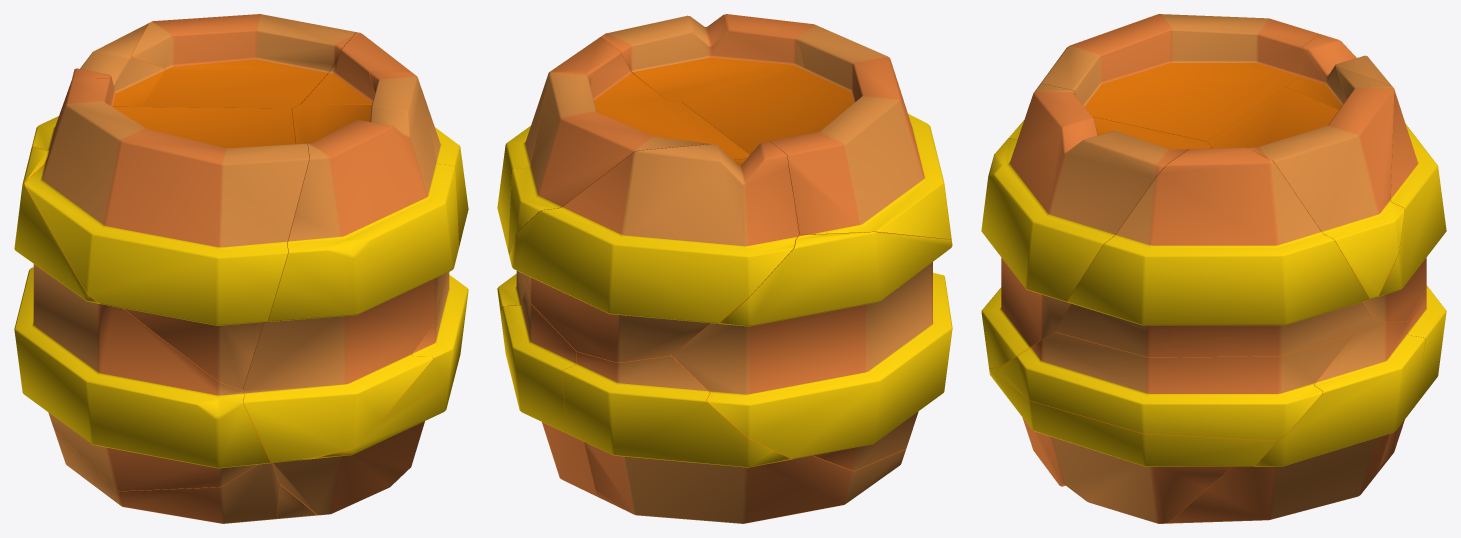
The model's file is Barrel-Fractured.fbx.
3 renders of one model, left to right at view 1: azimuth 30°, elevation 25°; view 2: azimuth 150°, elevation 25°; view 3: azimuth 270°, elevation 25°, orthographic.
Parts seen in each view (by area): view 1: Barrel_cell.109, Barrel_cell.106, Barrel_cell.103, Barrel_cell.104, Barrel_cell.102, Barrel_cell.107, Barrel_cell.105, Barrel_cell.100, Barrel_cell.108, Barrel_cell.101; view 2: Barrel_cell.103, Barrel_cell.100, Barrel_cell.107, Barrel_cell.109, Barrel_cell.104, Barrel_cell.106, Barrel_cell.101, Barrel_cell.105, Barrel_cell.108; view 3: Barrel_cell.105, Barrel_cell.106, Barrel_cell.108, Barrel_cell.109, Barrel_cell.101, Barrel_cell.104, Barrel_cell.102, Barrel_cell.100, Barrel_cell.107.
Part boxes in pixels (box(x1,y1,x2,y2)): Barrel_cell.109: box(24, 78, 309, 390); Barrel_cell.106: box(243, 71, 458, 462); Barrel_cell.103: box(14, 147, 271, 491); Barrel_cell.104: box(132, 14, 356, 108); Barrel_cell.102: box(273, 322, 464, 515); Barrel_cell.107: box(54, 429, 278, 523); Barrel_cell.105: box(302, 32, 468, 301); Barrel_cell.100: box(32, 22, 165, 150); Barrel_cell.108: box(382, 272, 468, 419); Barrel_cell.101: box(277, 483, 318, 518); Barrel_cell.103: box(672, 232, 952, 470); Barrel_cell.100: box(509, 141, 799, 362); Barrel_cell.107: box(562, 351, 906, 523); Barrel_cell.109: box(682, 30, 951, 239); Barrel_cell.104: box(508, 71, 749, 254); Barrel_cell.106: box(601, 14, 828, 101); Barrel_cell.101: box(501, 287, 597, 496); Barrel_cell.105: box(497, 37, 666, 287); Barrel_cell.108: box(497, 271, 525, 320); Barrel_cell.105: box(1055, 147, 1370, 357); Barrel_cell.106: box(981, 83, 1211, 367); Barrel_cell.108: box(999, 332, 1352, 440); Barrel_cell.109: box(1009, 14, 1319, 141); Barrel_cell.101: box(1166, 318, 1425, 523); Barrel_cell.104: box(1207, 66, 1404, 299); Barrel_cell.102: box(989, 346, 1277, 523); Barrel_cell.100: box(1286, 34, 1446, 321); Barrel_cell.107: box(1377, 285, 1446, 472).
Size of the model in its own units: 2.4 by 2.19 by 2.52.
